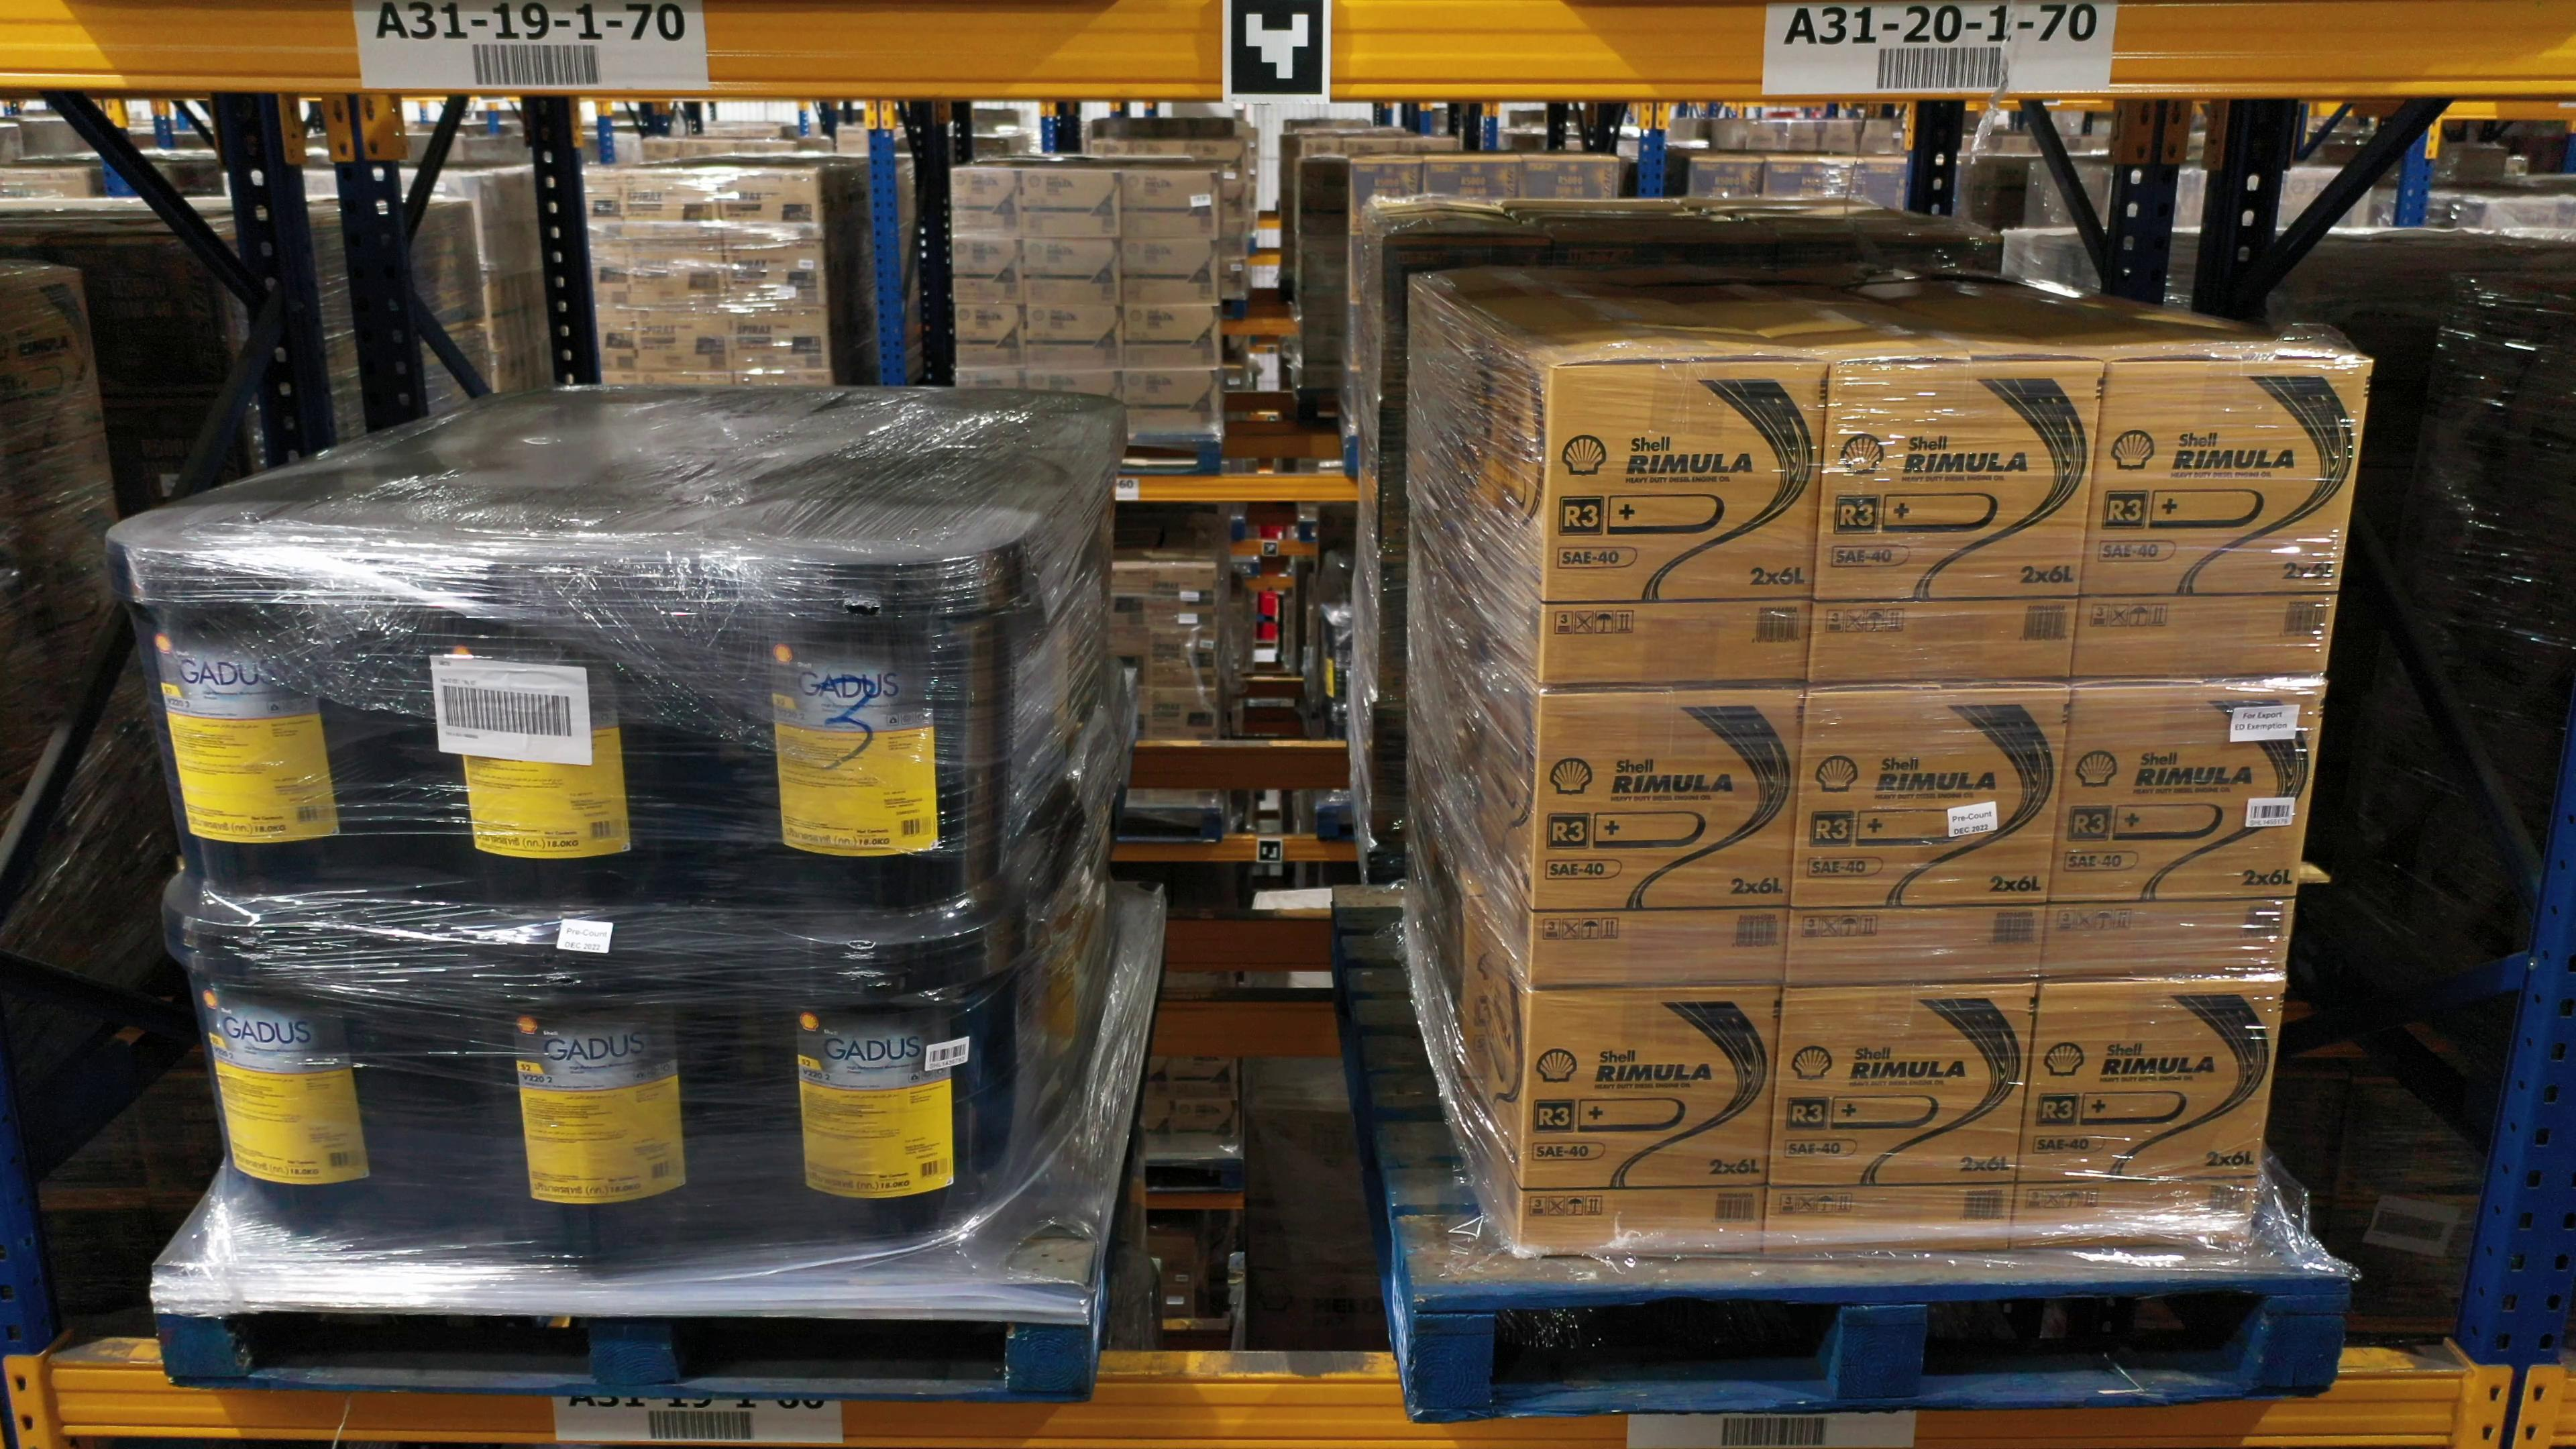-: (720, 531, 1028, 922), (110, 527, 418, 916), (163, 899, 446, 1263), (745, 909, 1026, 1270), (435, 531, 692, 915), (464, 909, 734, 1272), (1536, 359, 1831, 688), (1808, 359, 2104, 685), (2074, 363, 2371, 679), (1785, 688, 2070, 984), (2043, 679, 2325, 977), (1529, 688, 1806, 989), (2012, 977, 2286, 1251), (1762, 984, 2036, 1256), (1518, 982, 1782, 1256)
